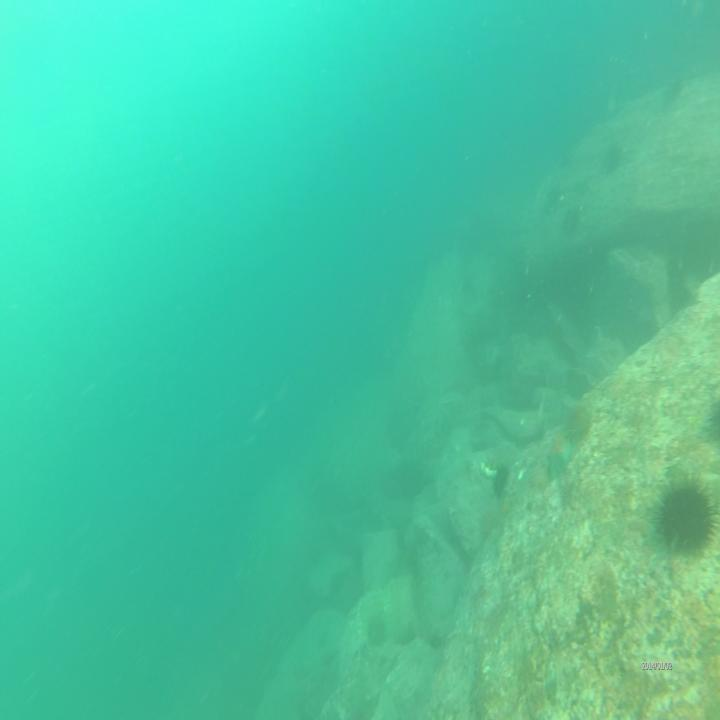echinus: (654, 479, 707, 555), (563, 404, 597, 439), (492, 459, 509, 497), (366, 614, 385, 643)
starfish: (543, 440, 575, 485)
